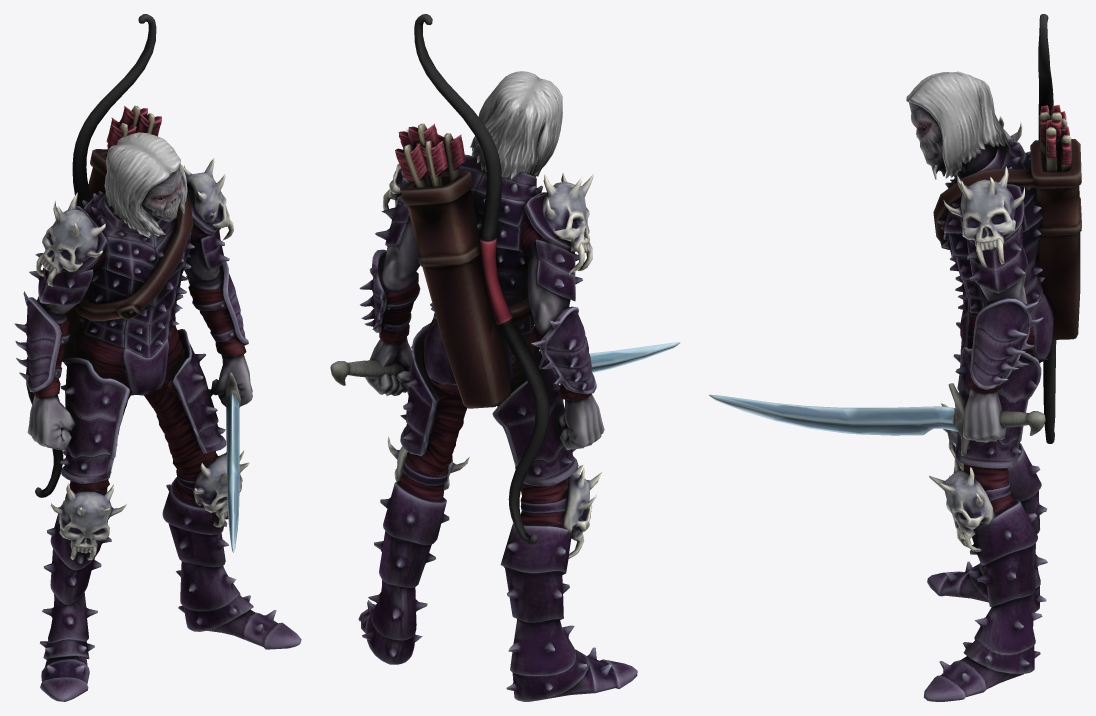
Rendered from MZ4250 - Wight.glb.
3 renders of one model, left to right at view 1: azimuth 30°, elevation 25°; view 2: azimuth 150°, elevation 25°; view 3: azimuth 270°, elevation 25°, orthographic. The views are drawn at different scales.
Visible parts, largest first — view 1: 01_low.001, 03_low.001, 02_low.001, 04_low.001; view 2: 01_low.001, 03_low.001, 02_low.001, 04_low.001; view 3: 01_low.001, 03_low.001, 04_low.001, 02_low.001.
Part boxes in pixels (x1,y1,x2,y2): 01_low.001: (14,132,301,701); 03_low.001: (62,105,193,362); 02_low.001: (26,14,156,497); 04_low.001: (224,372,240,552); 01_low.001: (358,71,637,701); 03_low.001: (395,123,532,408); 02_low.001: (414,14,549,544); 04_low.001: (330,342,680,395); 01_low.001: (906,71,1053,701); 03_low.001: (933,105,1081,339); 04_low.001: (709,383,1045,455); 02_low.001: (1038,14,1056,443).
Bounding box in the file's own units: 3.03 × 7.29 × 3.85.
Materials: 1 (1 with a texture image).
